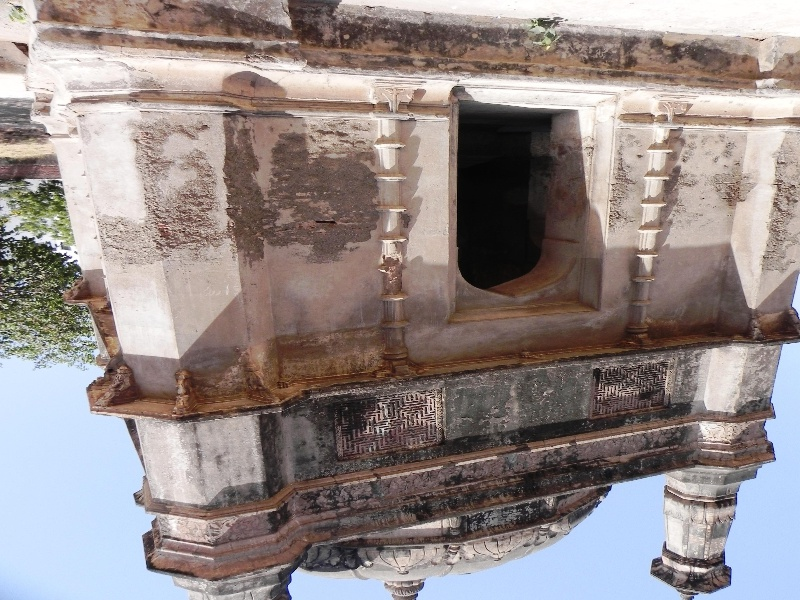Spalling: (231, 117, 377, 265), (98, 120, 226, 262), (717, 160, 756, 205)
